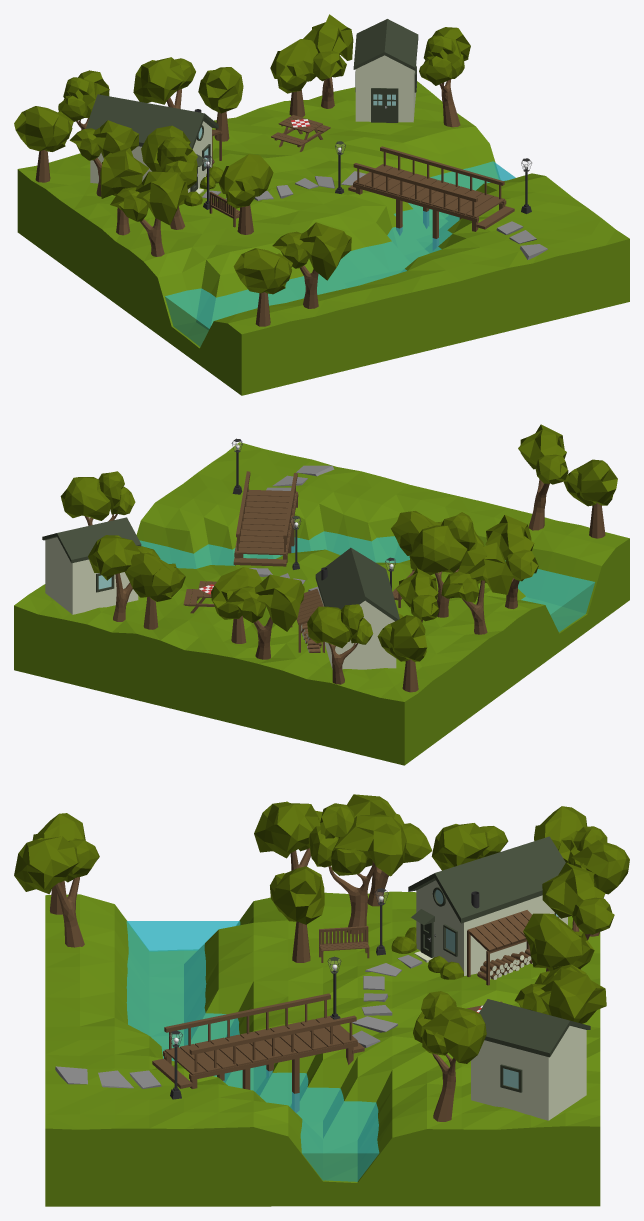
File: Executiveplot_2.glb
3 views of the same model, one above another, from view 1: azimuth 30°, elevation 25°; view 2: azimuth 150°, elevation 25°; view 3: azimuth 270°, elevation 25° (orthographic). The views are drawn at different scales.
Parts seen in each view (by area): view 1: Cube, Cube.001, Cube.017, Cube.040, Cube.002, Icosphere.014, Icosphere.013, Icosphere.007, Icosphere.001, Icosphere.006, Icosphere.005, Icosphere.009 (+8 smaller); view 2: Cube, Cube.001, Cube.002, Cube.040, Cube.017, Icosphere.001, Icosphere.000, Icosphere.012, Icosphere.007, Icosphere.004, Icosphere.014, Icosphere.002 (+9 smaller); view 3: Cube, Cube.001, Cube.040, Cube.002, Cube.017, Icosphere.001, Icosphere.007, Icosphere.014, Icosphere.000, Icosphere.006, Icosphere.011, Icosphere.013 (+8 smaller).
Boxes of the visible parts, x1,y1,x2,y2 form: Cube: (17,81,629,395); Cube.001: (165,161,515,346); Cube.017: (348,146,514,250); Cube.040: (353,19,418,122); Cube.002: (85,94,218,192); Icosphere.014: (272,222,351,308); Icosphere.013: (110,171,188,256); Icosphere.007: (419,27,470,127); Icosphere.001: (141,125,197,229); Icosphere.006: (303,14,353,108); Icosphere.005: (233,248,292,326); Icosphere.009: (14,106,73,182); Cube: (14,442,629,765); Cube.001: (139,531,594,631); Cube.002: (315,547,399,669); Cube.040: (42,517,141,614); Cube.017: (233,471,298,566); Icosphere.001: (409,512,484,617); Icosphere.000: (226,574,304,659); Icosphere.012: (441,542,513,634); Icosphere.007: (60,471,135,525); Icosphere.004: (307,604,373,684); Icosphere.014: (518,424,568,530); Icosphere.002: (125,552,185,629); Cube: (45,891,600,1206); Cube.001: (126,921,379,1181); Cube.040: (471,999,590,1120); Cube.002: (408,836,567,975); Cube.017: (152,993,364,1112); Icosphere.001: (308,803,406,934); Icosphere.007: (413,991,486,1121); Icosphere.014: (14,836,99,947); Icosphere.000: (542,862,614,969); Icosphere.006: (514,968,606,1023); Icosphere.011: (270,866,324,962); Icosphere.013: (254,801,322,870).
Bounding box in the file's own units: 24.31 × 8.99 × 25.42.
